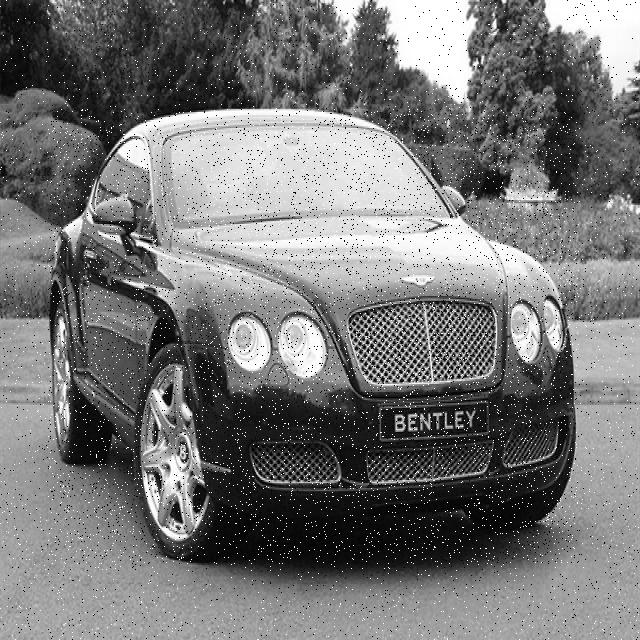Sedan: (48, 109, 578, 564)
